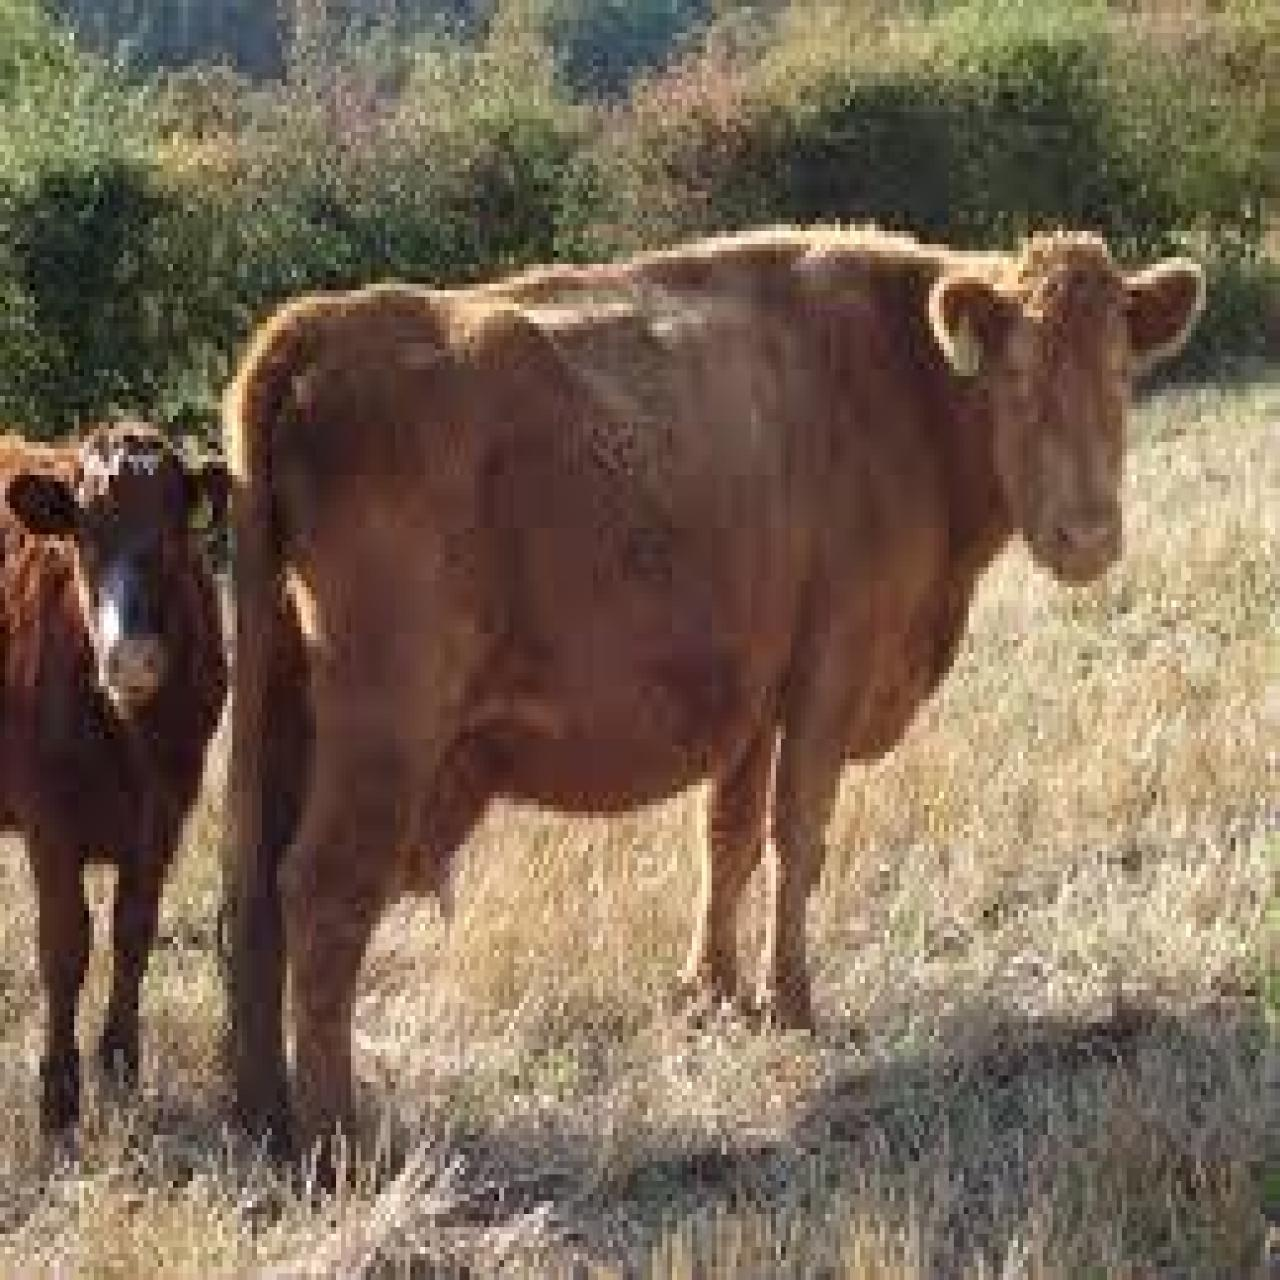cow: (225, 225, 1208, 1162), (0, 422, 232, 1141)
